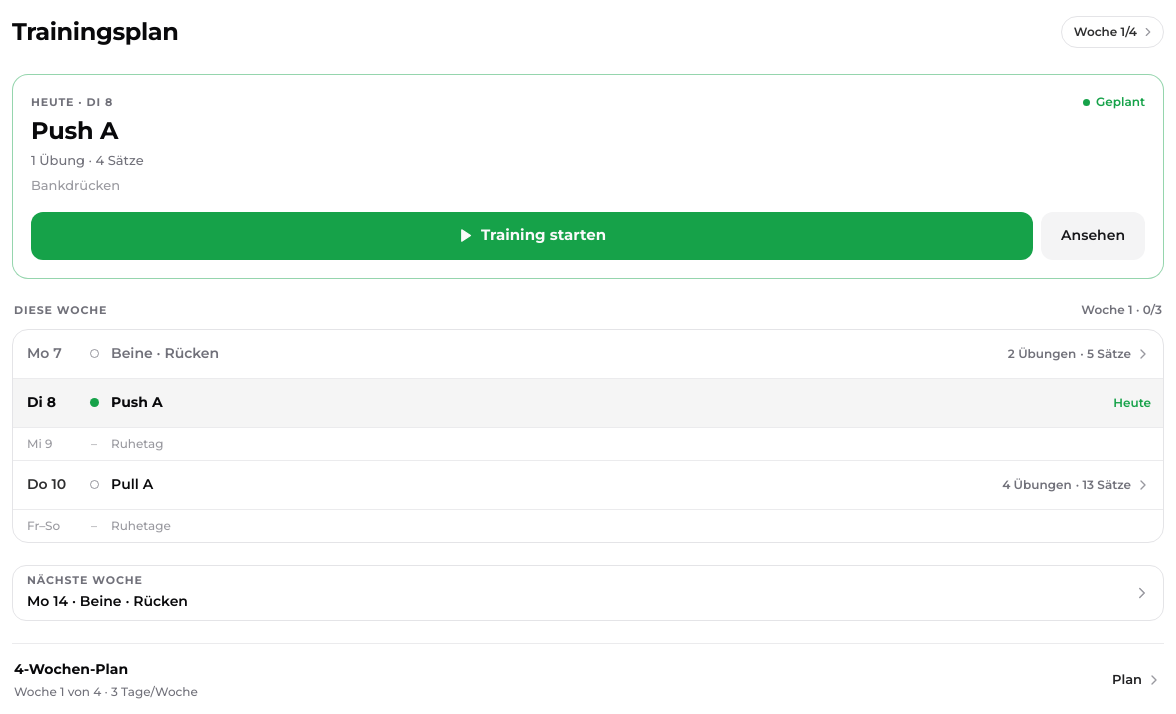
Test: Edit Mode › opens from Day Detail as the canonical edit mode: header, compact rows and the two actions
Click the button with aria-label "Do 10,". click: [47, 484]
box: [13,461,1163,509]
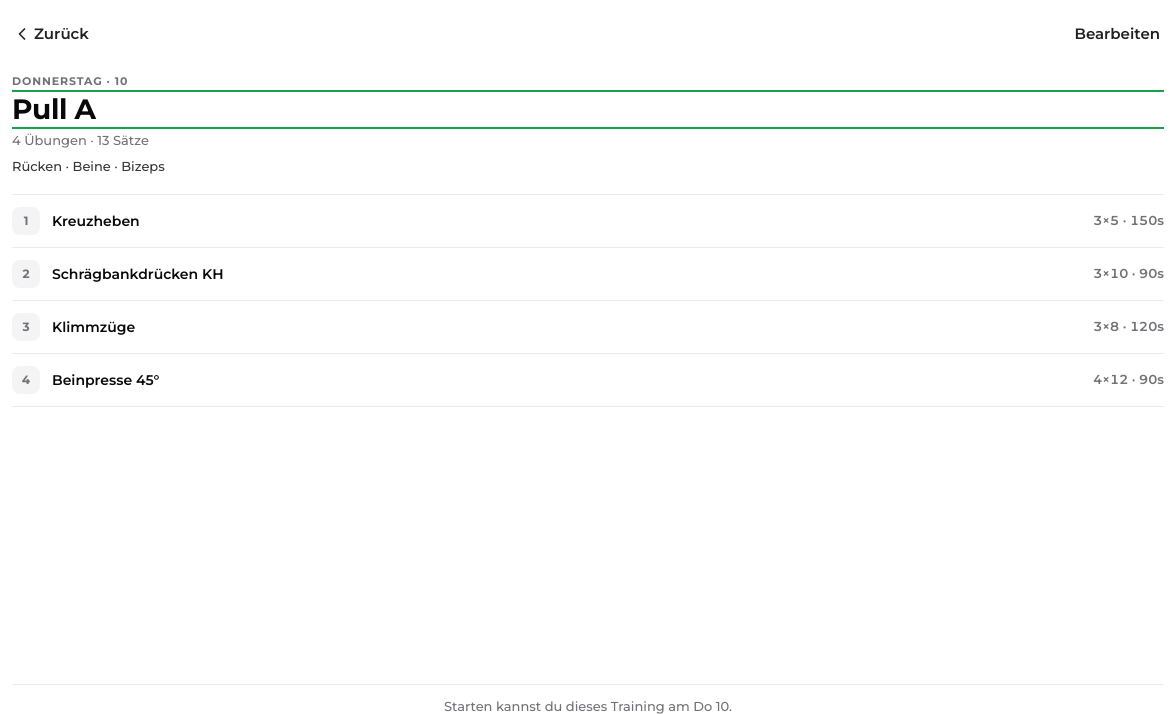
Click the button "Bearbeiten". click: [1113, 34]
box: [1062,12,1164,56]
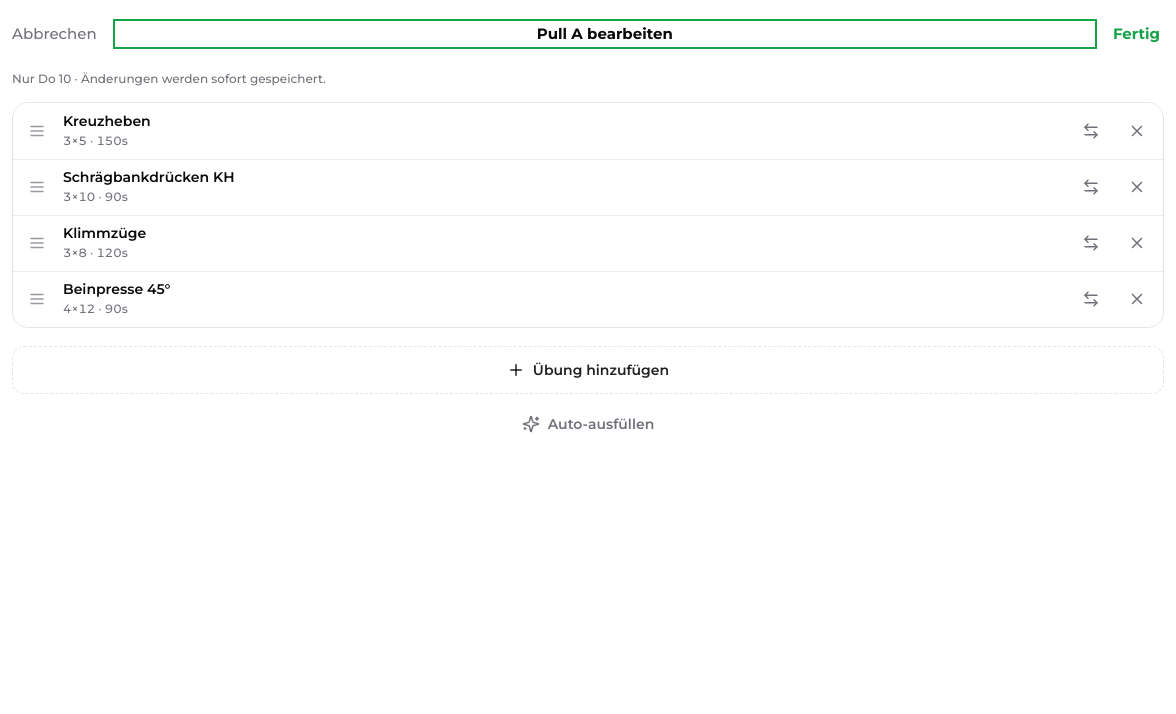
Expected: the heading "Pull A bearbeiten" is shown, [537,24,673,43]
Expected: the button "Abbrechen" is shown, [12,12,109,56]
Expected: the button "Fertig" is shown, [1101,12,1164,56]
